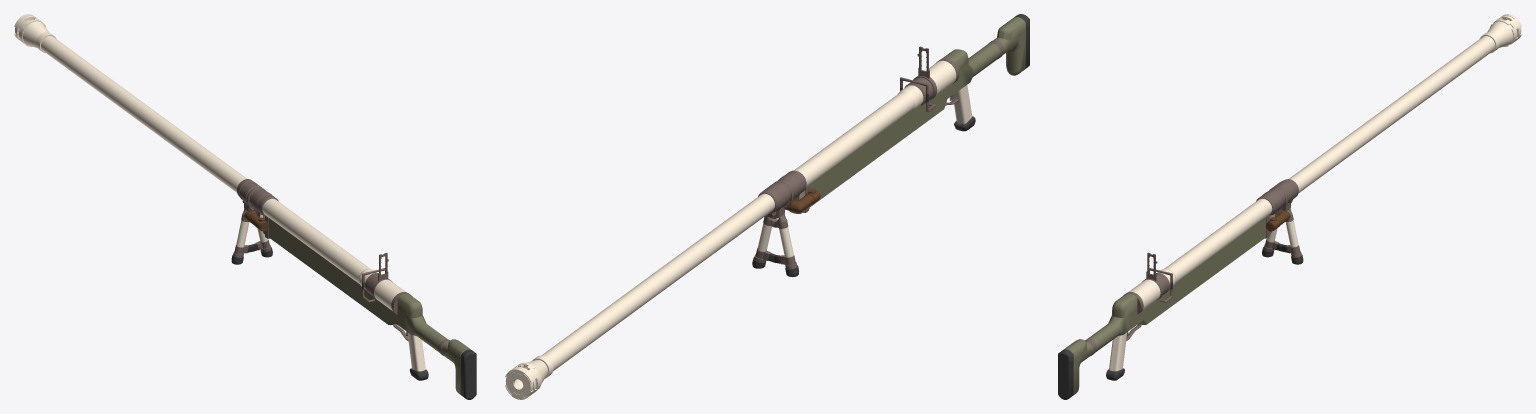
The model's file is cannon.fbx.
3 views of the same model, side by side, from view 1: azimuth 30°, elevation 25°; view 2: azimuth 150°, elevation 25°; view 3: azimuth 330°, elevation 25° (orthographic). The views are drawn at different scales.
Parts seen in each view (by area): view 1: Stock.001, Stock; view 2: Stock.001, Stock; view 3: Stock.001, Stock.
Part boxes in pixels (x1,y1,x2,y2): Stock.001: [14, 14, 377, 289]; Stock: [244, 210, 476, 399]; Stock.001: [505, 85, 923, 399]; Stock: [785, 14, 1029, 213]; Stock.001: [1157, 14, 1521, 288]; Stock: [1058, 210, 1290, 399].
Bounding box in the file's own units: 14.76 × 35.67 × 286.
